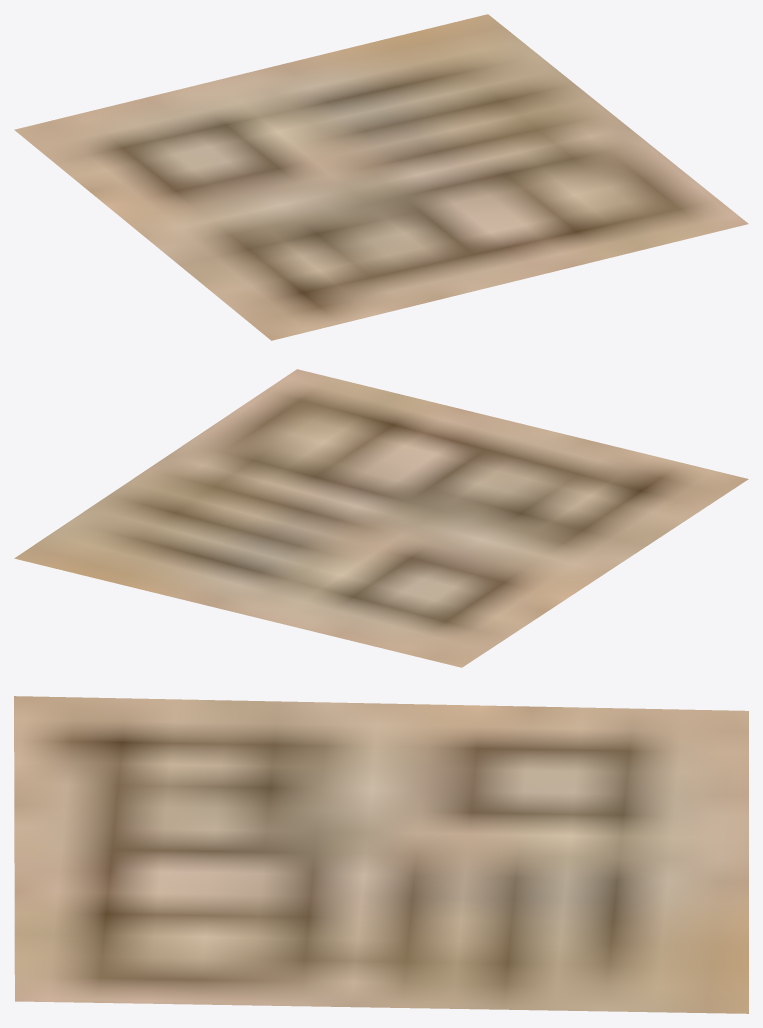
The model's file is Paper1.fbx.
The picture shows the model from 3 angles, top to bottom: view 1: azimuth 30°, elevation 25°; view 2: azimuth 150°, elevation 25°; view 3: azimuth 270°, elevation 25°; orthographic projection. The views are drawn at different scales.
Parts seen in each view (by area): view 1: Paper1; view 2: Paper1; view 3: Paper1.
Boxes of the visible parts, x1,y1,x2,y2 form: Paper1: (14,14,748,340); Paper1: (14,369,748,667); Paper1: (14,696,748,1013).
Bounding box in the file's own units: 0.2974 × 2.22e-16 × 0.2908.
1 material, 1 textured.
